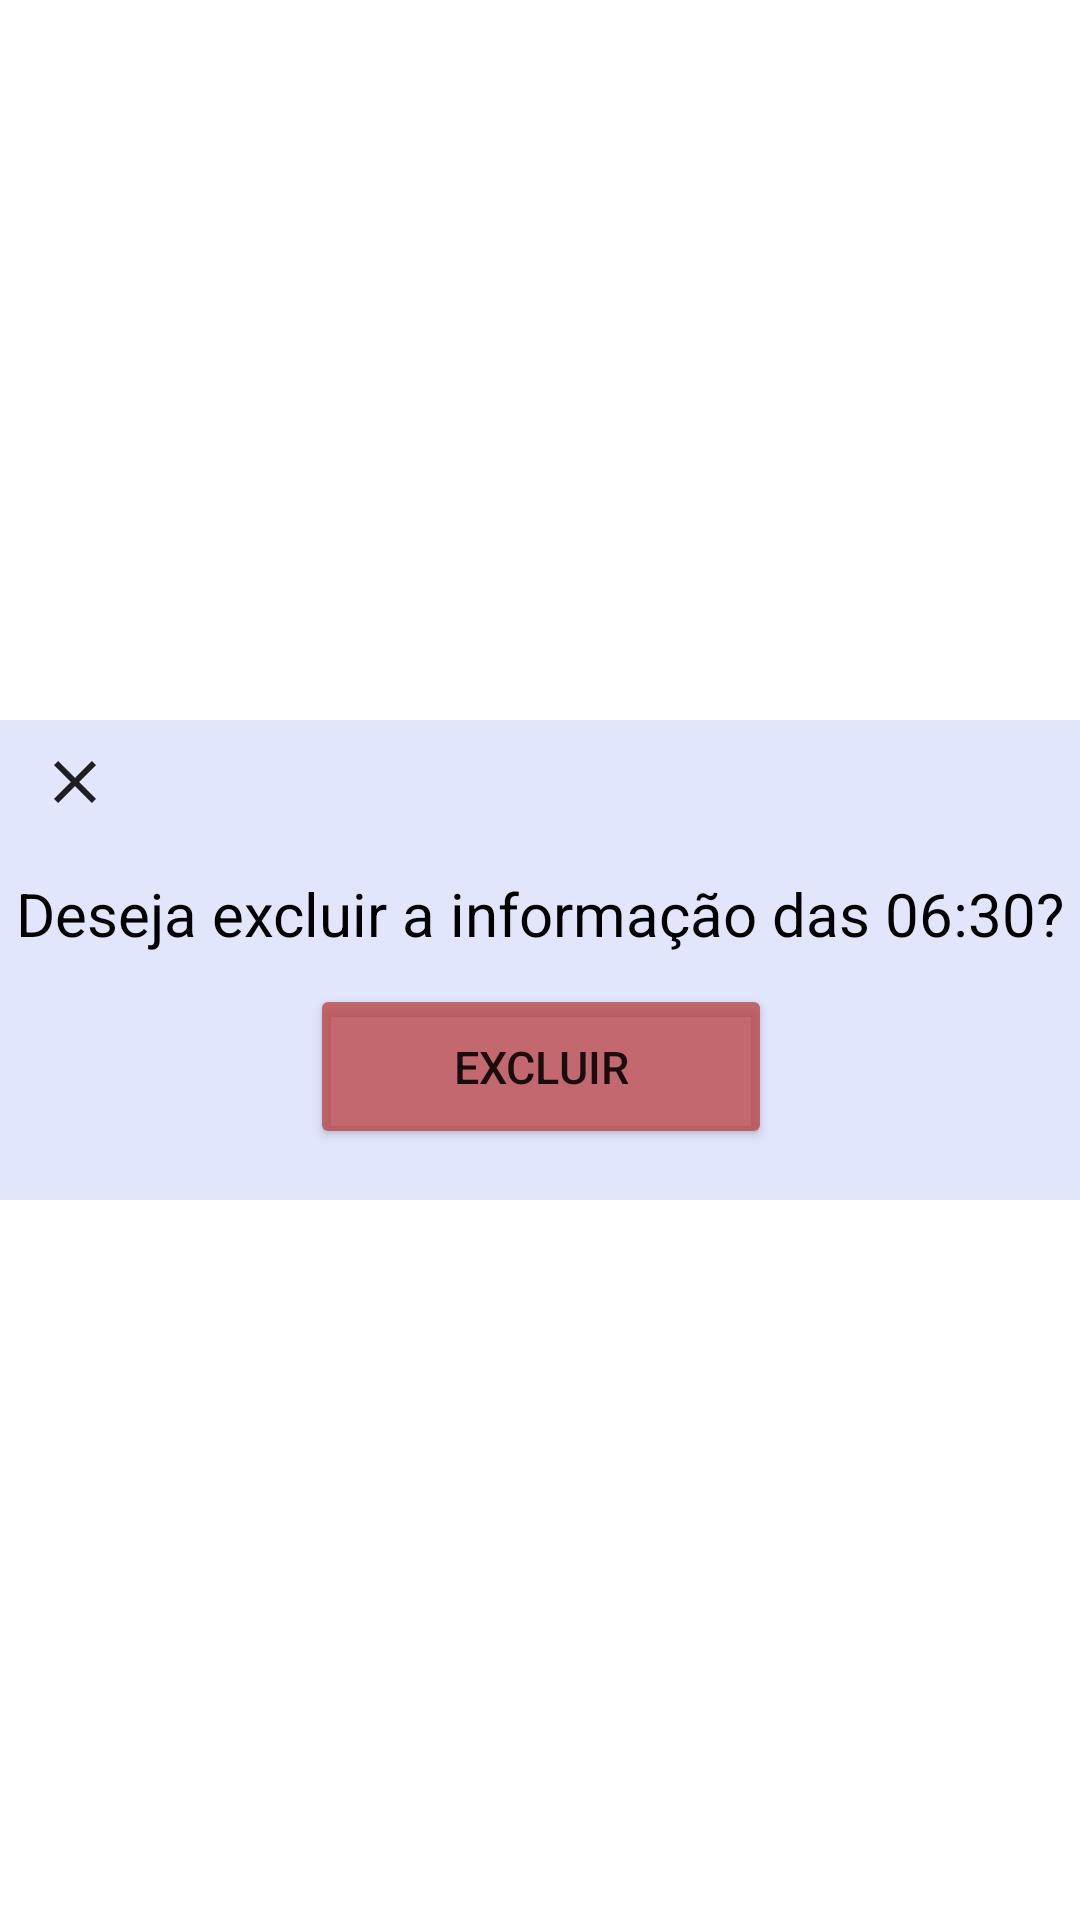

Where icons sit on this 1080*1920 app screen, as (x1, y1, x2, y2):
close: (54, 761, 96, 803)
